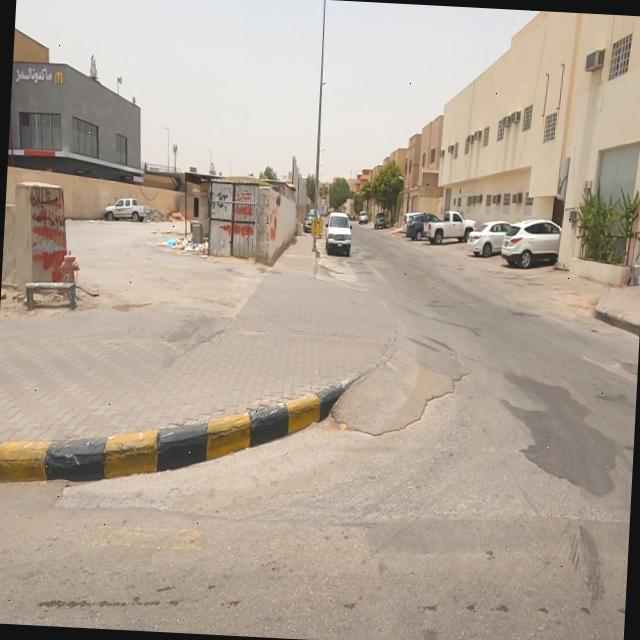Graffiti: (27, 187, 67, 282), (234, 186, 257, 239), (271, 196, 282, 244), (216, 192, 230, 214), (221, 225, 233, 240)
